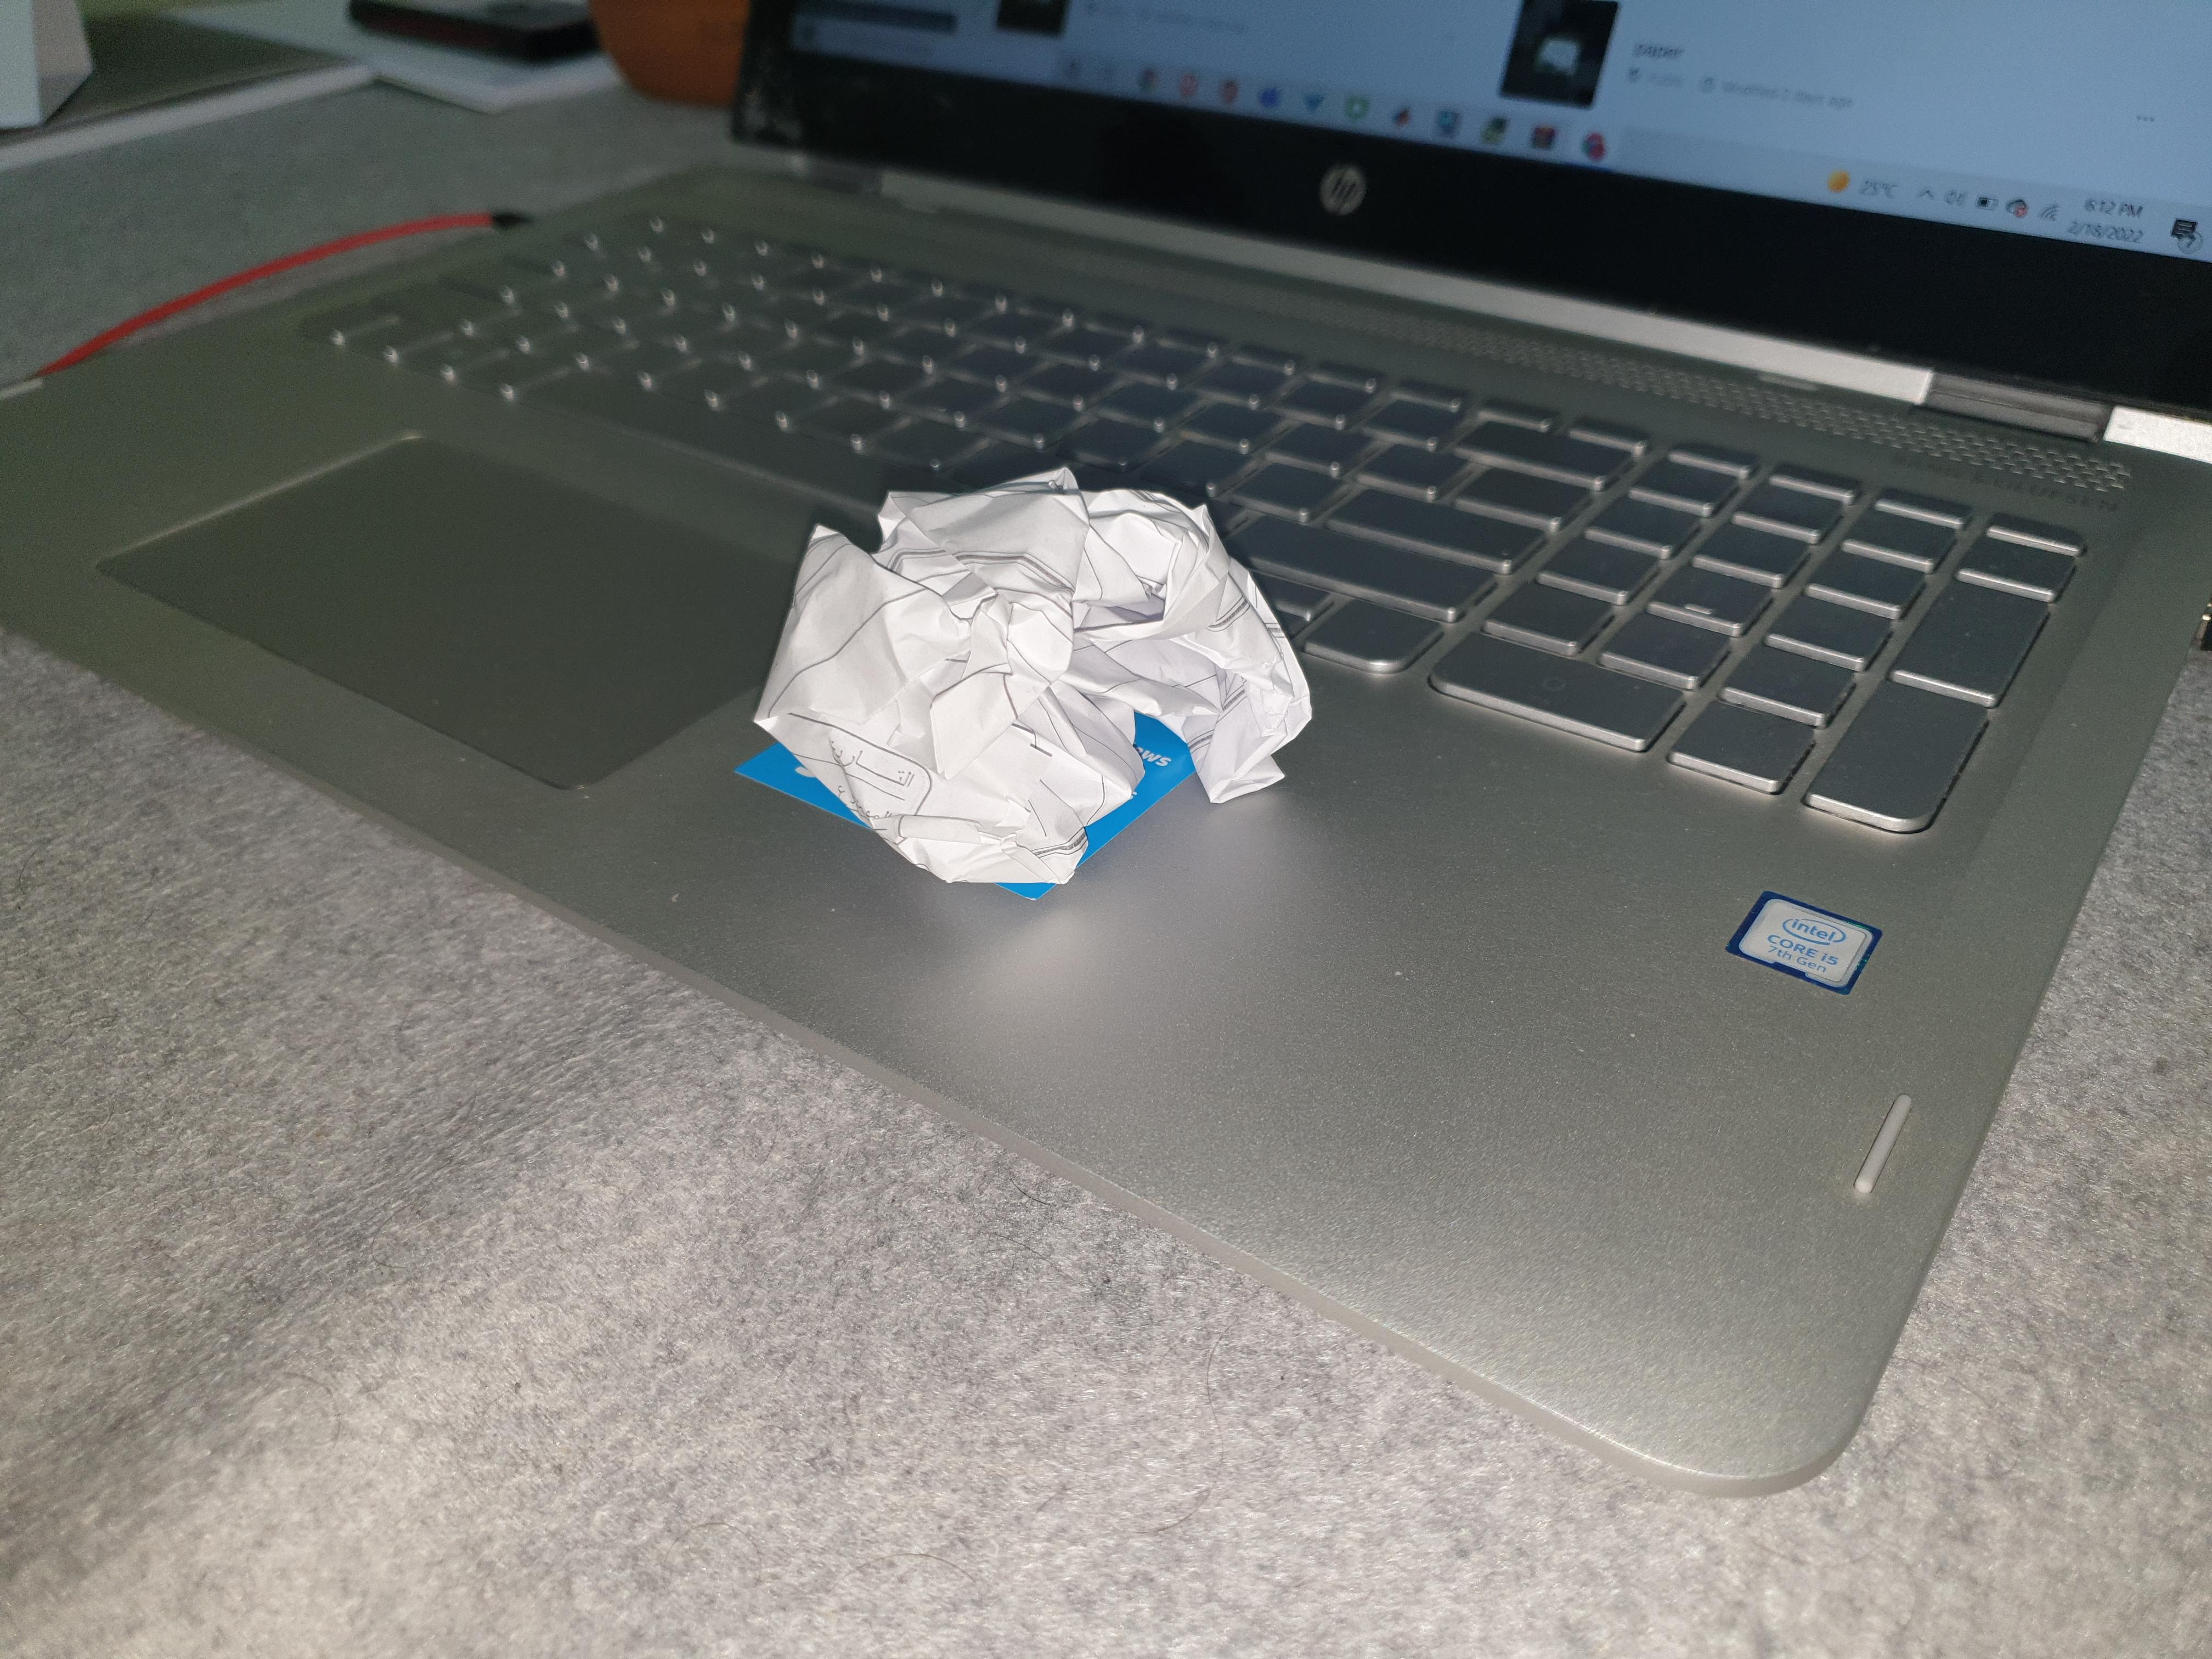Paper: (732, 439, 1329, 934)
